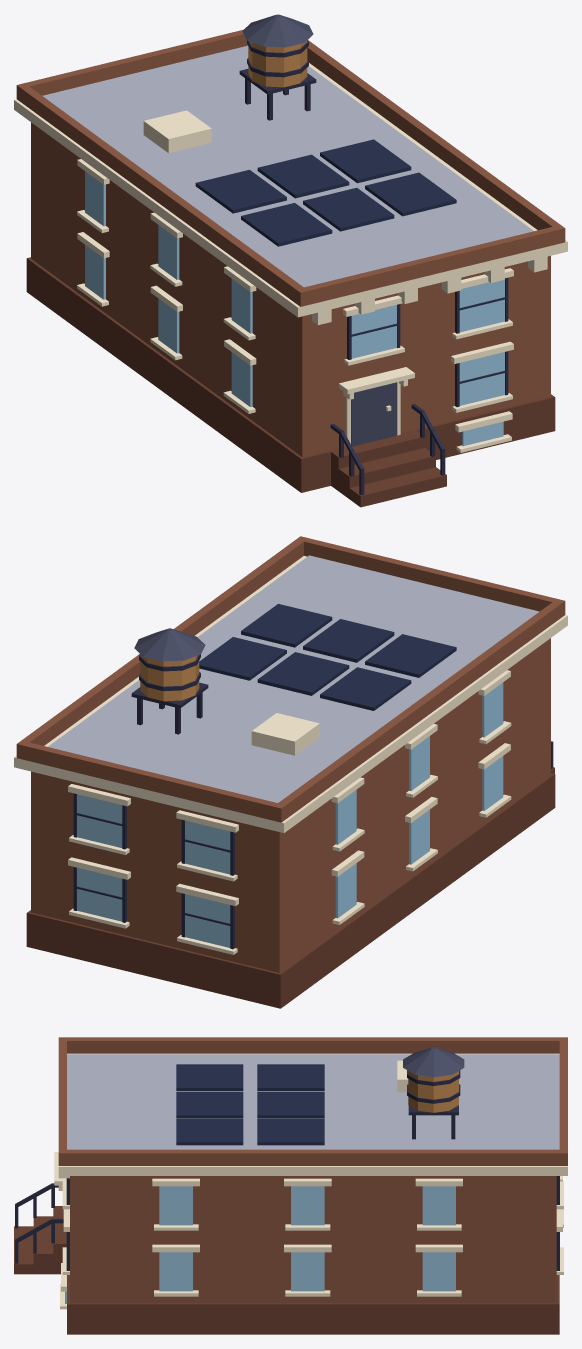
File: house-1x2-2f-brownstone-a-solar.glb
3 renders of one model, top to bottom at view 1: azimuth 30°, elevation 25°; view 2: azimuth 150°, elevation 25°; view 3: azimuth 270°, elevation 25°, orthographic. The views are drawn at different scales.
Parts seen in each view (by area): view 1: house-1x2-2f-brownstone-a-solar; view 2: house-1x2-2f-brownstone-a-solar; view 3: house-1x2-2f-brownstone-a-solar.
Boxes of the visible parts, left/top/right/bottom form: house-1x2-2f-brownstone-a-solar: left=14, top=14, right=567, bottom=507; house-1x2-2f-brownstone-a-solar: left=14, top=536, right=567, bottom=1008; house-1x2-2f-brownstone-a-solar: left=14, top=1037, right=567, bottom=1334.
Bounding box in the file's own units: 1 × 1 × 1.98.
Materials: 1 (1 with a texture image).
